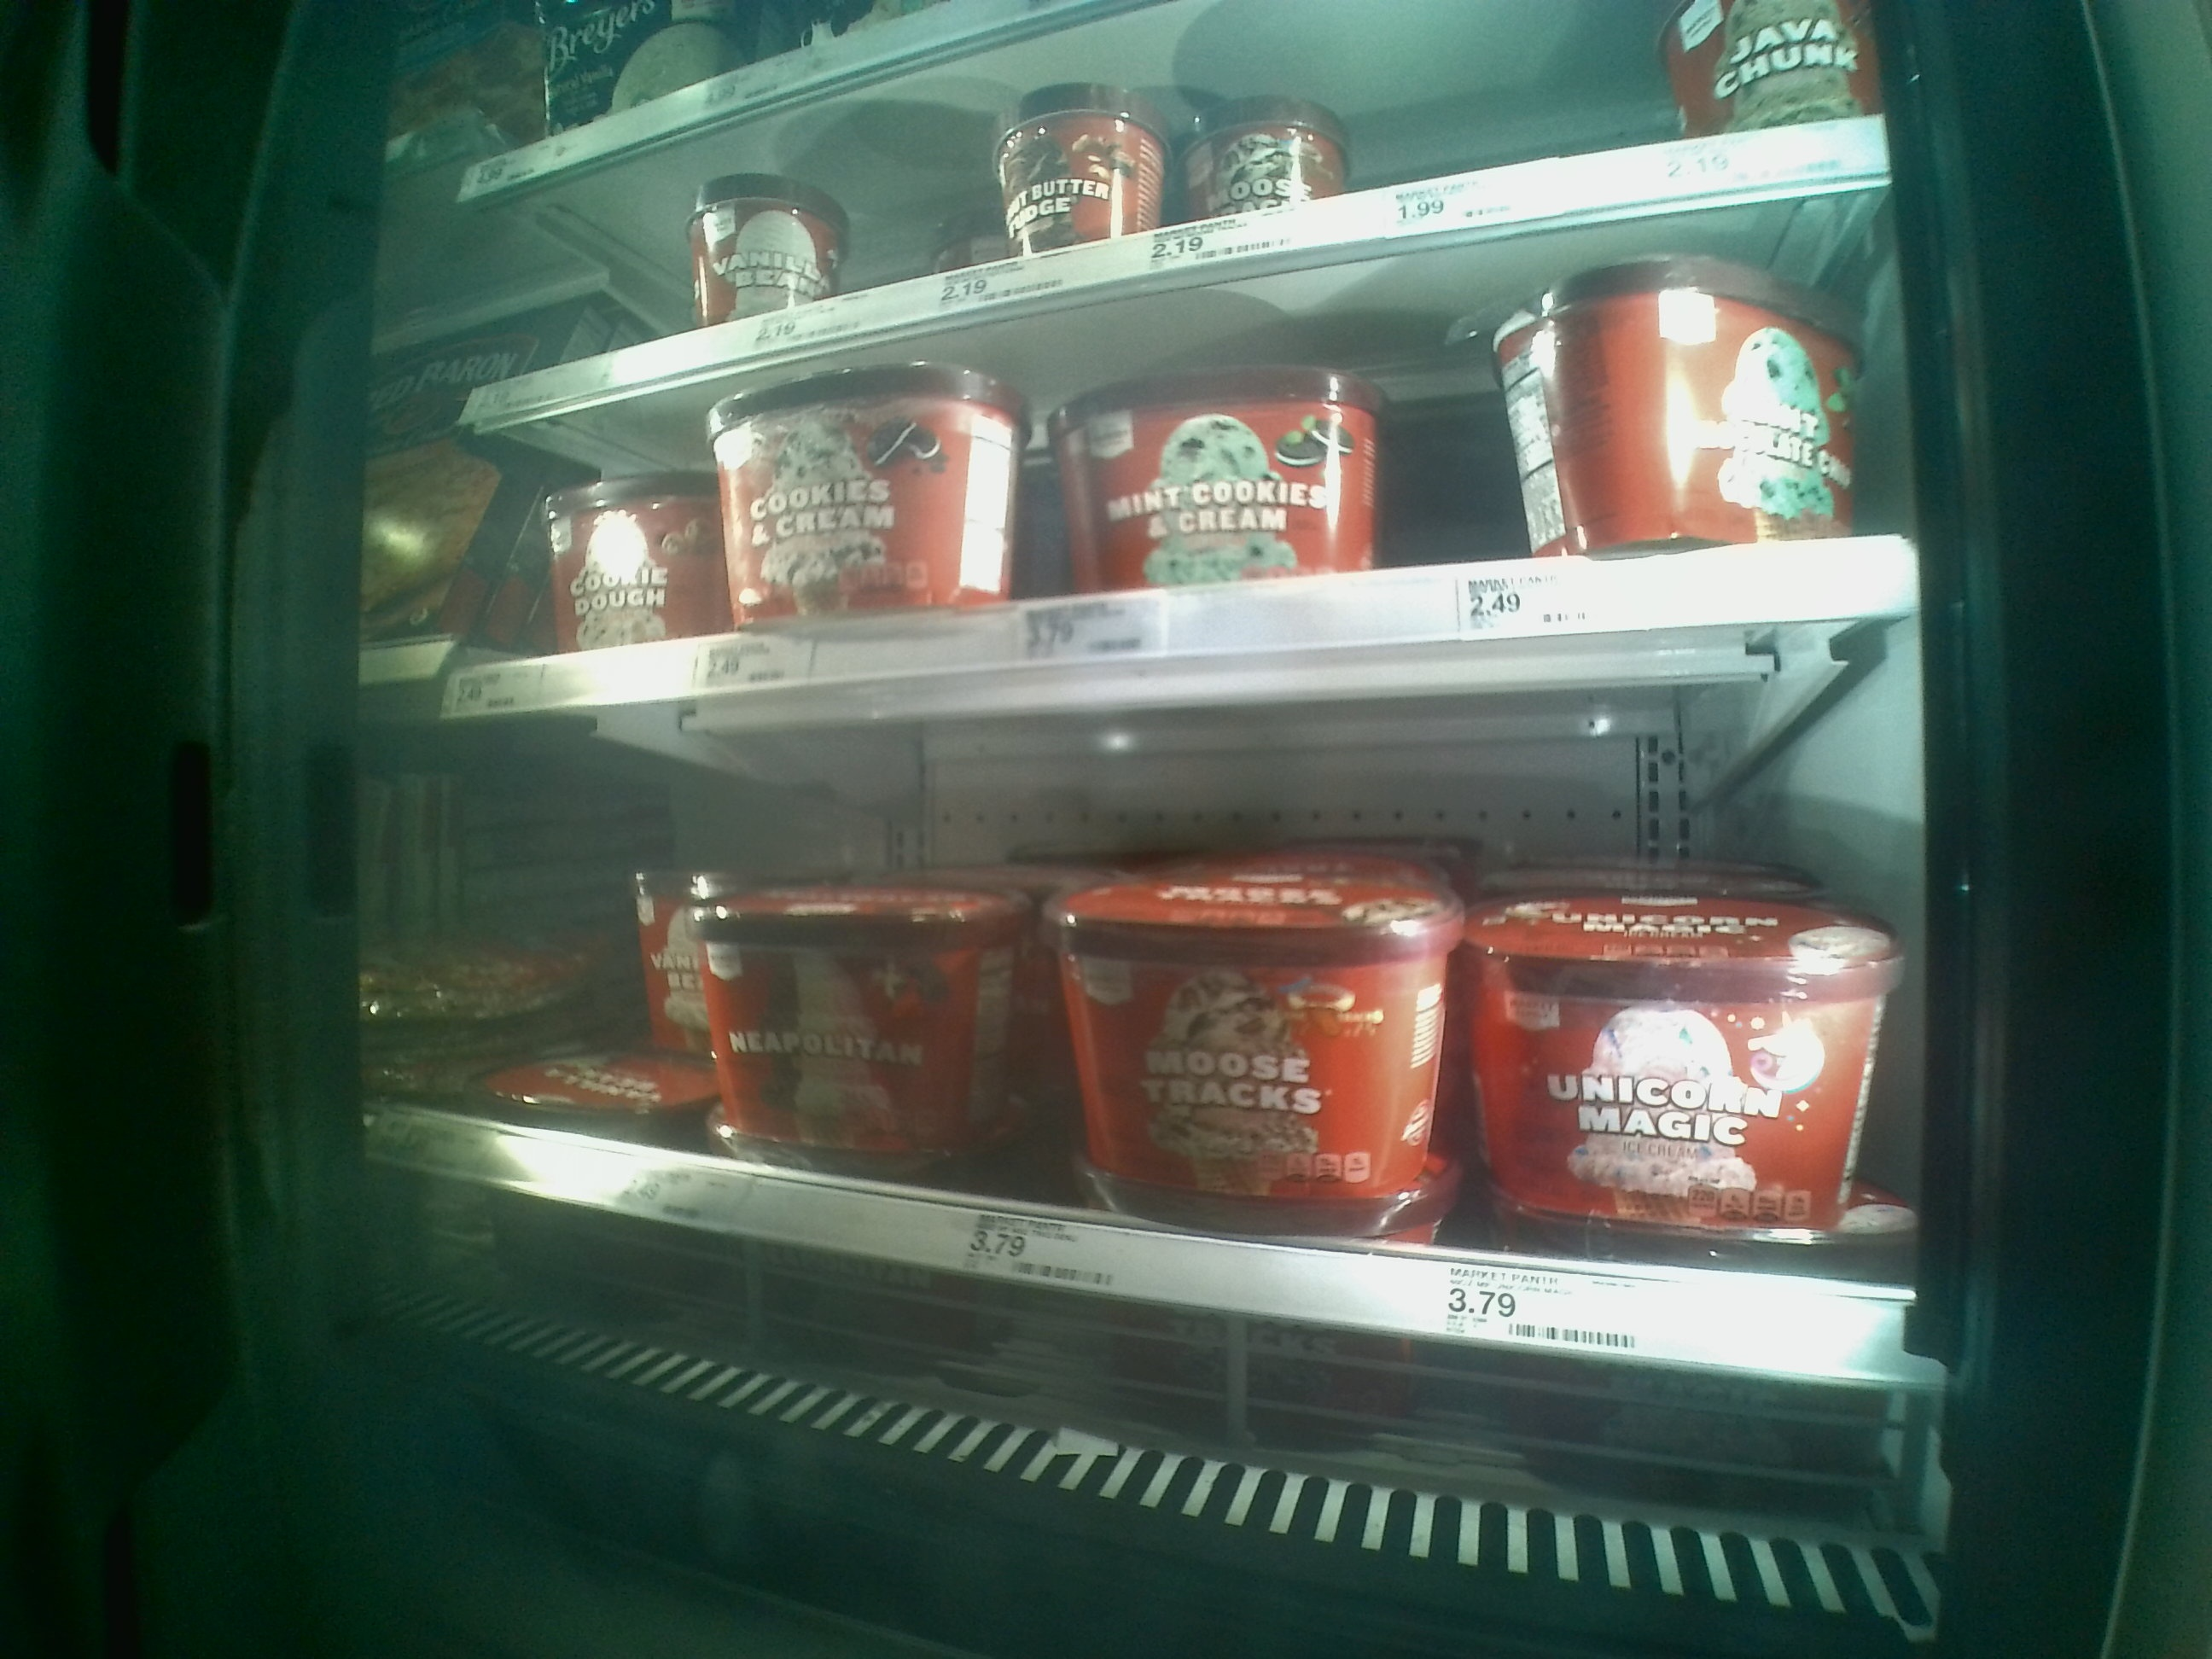shelf: (376, 626, 1923, 1364), (446, 171, 1907, 713)
